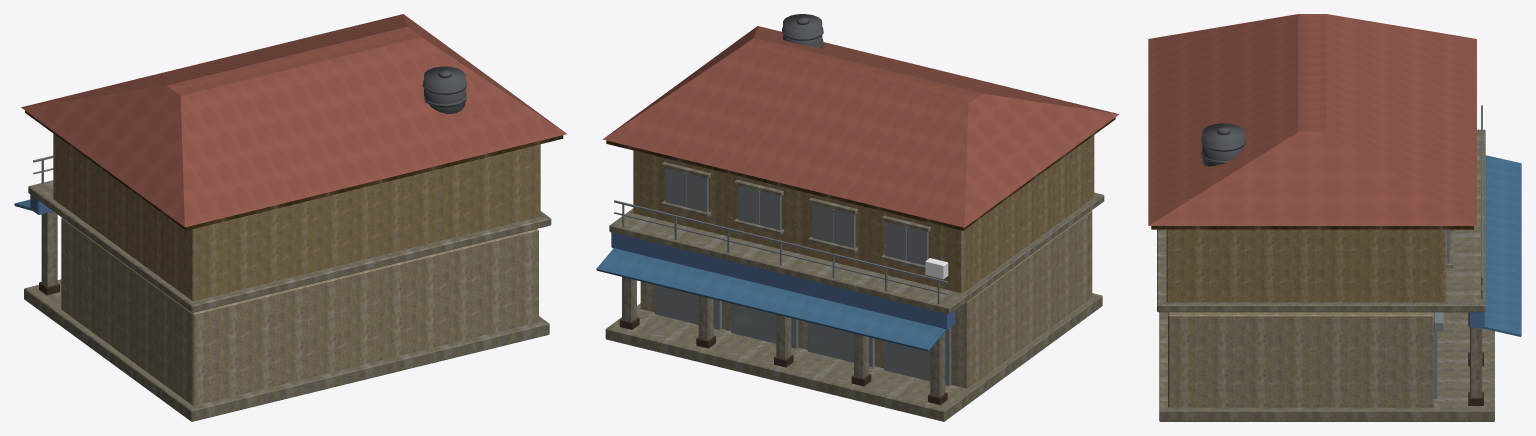
Rendered from Kenya_Shop_Duka_2Story.glb.
The picture shows the model from 3 angles, left to right: view 1: azimuth 30°, elevation 25°; view 2: azimuth 150°, elevation 25°; view 3: azimuth 270°, elevation 25°; orthographic projection. The views are drawn at different scales.
Visible parts, largest first — view 1: MabatiHipRoof, GroundCore, UpperCore, Plinth, UpperSlab, EavesFascia, RoofKenTank_Body, VerandaCol_-6.5; view 2: MabatiHipRoof, UpperCore, Plinth, GroundCore, UpperSlab, AwningSloped, SignFasciaBeam, EavesFascia, ShopFrame_-4.8, ShopFrame_4.8, ShopFrame_-1.6, WinFrame_4.6 (+13 smaller); view 3: MabatiHipRoof, GroundCore, UpperCore, Plinth, UpperSlab, AwningSloped, RoofKenTank_Body, EavesFascia, VerandaCol_6.5, ShopFrame_4.8.
Boxes of the visible parts, x1,y1,x2,y2 form: MabatiHipRoof: [21, 14, 566, 227]; GroundCore: [61, 218, 538, 405]; UpperCore: [53, 134, 540, 300]; Plinth: [24, 279, 549, 421]; UpperSlab: [28, 180, 551, 312]; EavesFascia: [25, 110, 563, 230]; RoofKenTank_Body: [424, 66, 465, 113]; VerandaCol_-6.5: [41, 211, 57, 286]; MabatiHipRoof: [602, 26, 1119, 227]; UpperCore: [633, 135, 1094, 293]; Plinth: [605, 293, 1102, 421]; GroundCore: [640, 210, 1092, 388]; UpperSlab: [609, 192, 1104, 314]; AwningSloped: [596, 248, 946, 351]; SignFasciaBeam: [611, 232, 955, 329]; EavesFascia: [606, 117, 1115, 230]; ShopFrame_-4.8: [884, 327, 951, 385]; ShopFrame_4.8: [654, 285, 721, 329]; ShopFrame_-1.6: [807, 322, 874, 367]; WinFrame_4.6: [665, 168, 708, 212]; MabatiHipRoof: [1148, 14, 1476, 225]; GroundCore: [1168, 312, 1433, 407]; UpperCore: [1166, 229, 1446, 302]; Plinth: [1159, 312, 1494, 421]; UpperSlab: [1157, 129, 1485, 312]; AwningSloped: [1480, 155, 1521, 336]; RoofKenTank_Body: [1202, 123, 1244, 166]; EavesFascia: [1151, 226, 1473, 229]; VerandaCol_6.5: [1470, 327, 1482, 397]; ShopFrame_4.8: [1433, 312, 1437, 399].
Bounding box in the file's own units: 15.15 × 9.89 × 12.79.
Materials: 15 (8 with a texture image).
